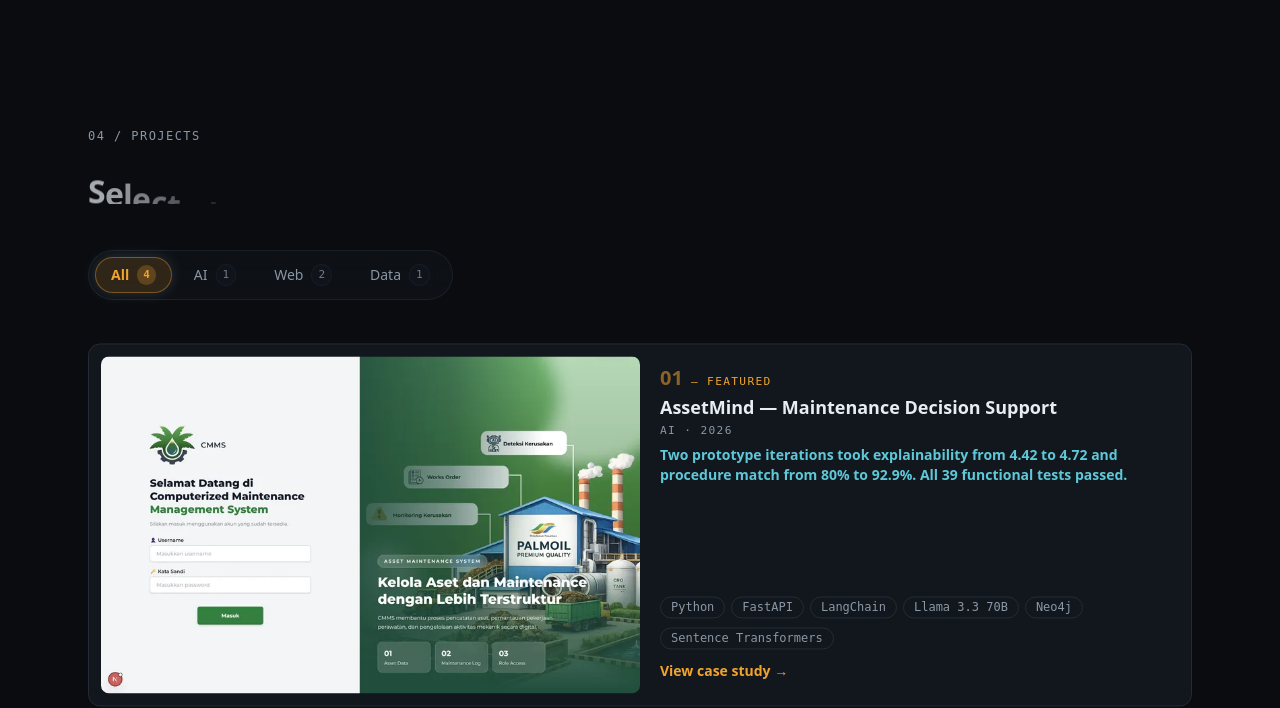
Test: project filter › drops the split entirely once a category narrows the set
The image size is (1280, 708).
Click the button "AI 1" at (215, 275), box [178,257,252,293]
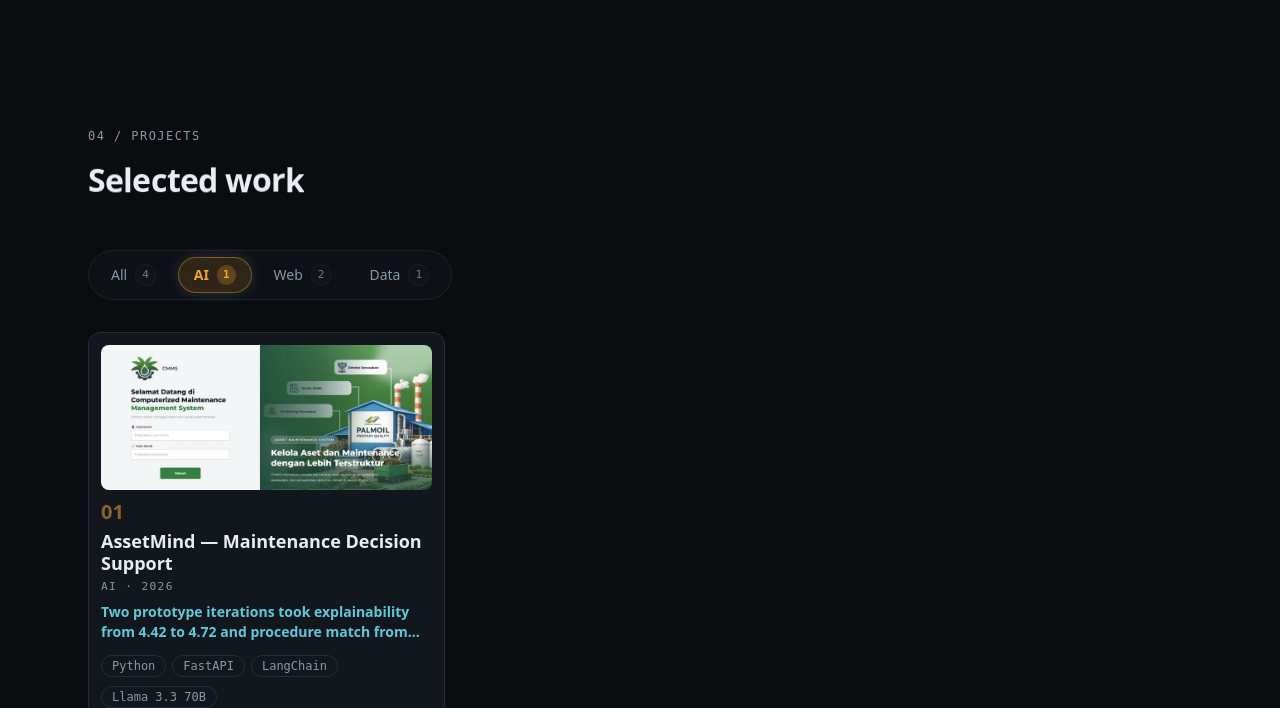
Expected: the text "— Featured" is not shown
